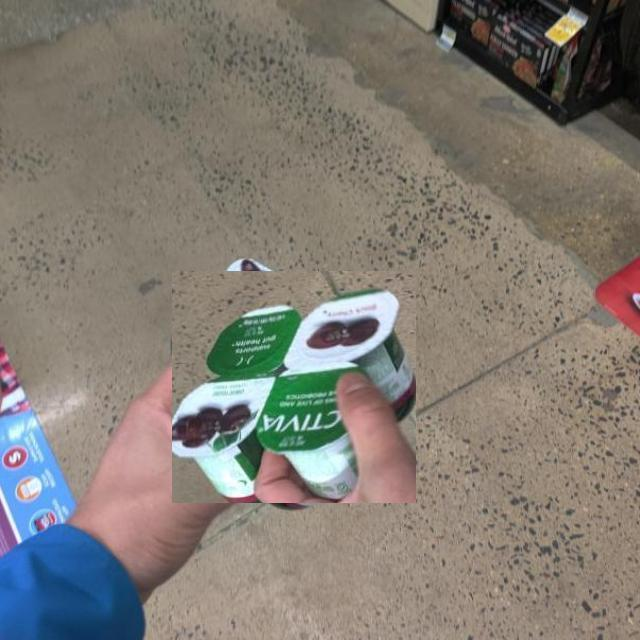Yogurt: (172, 270, 416, 503)
